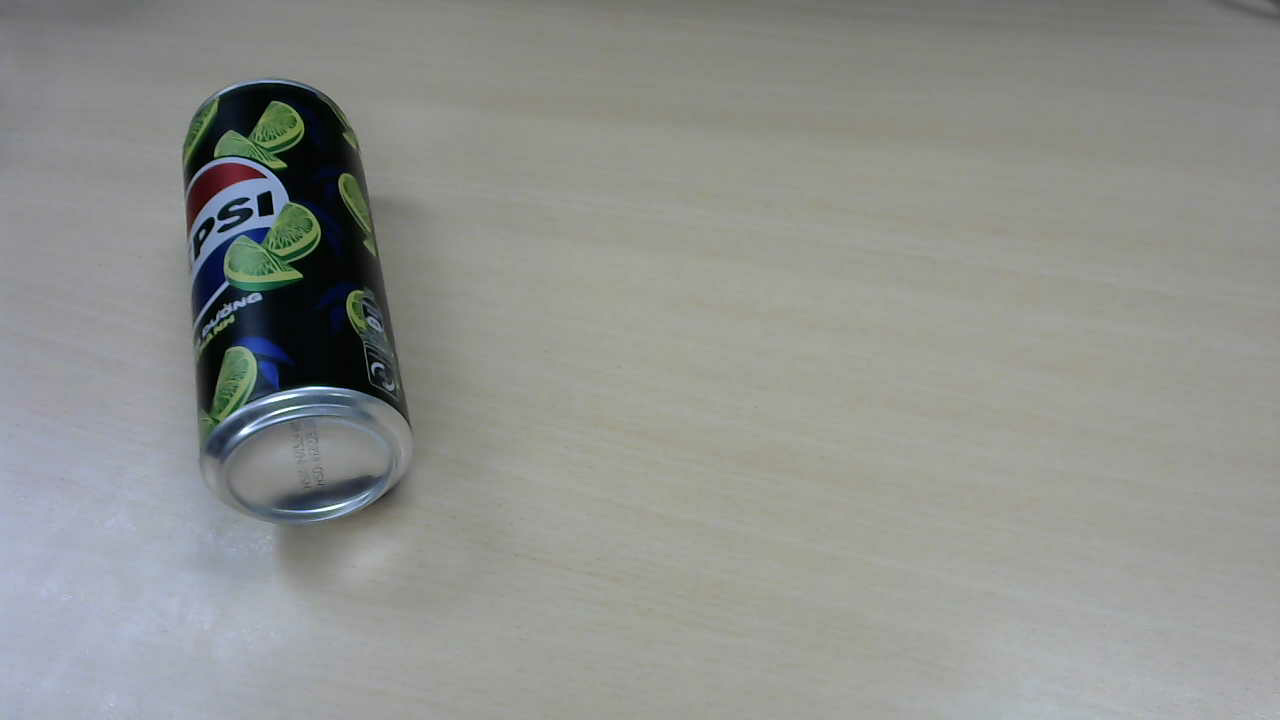Pepsi: (156, 80, 422, 549)
